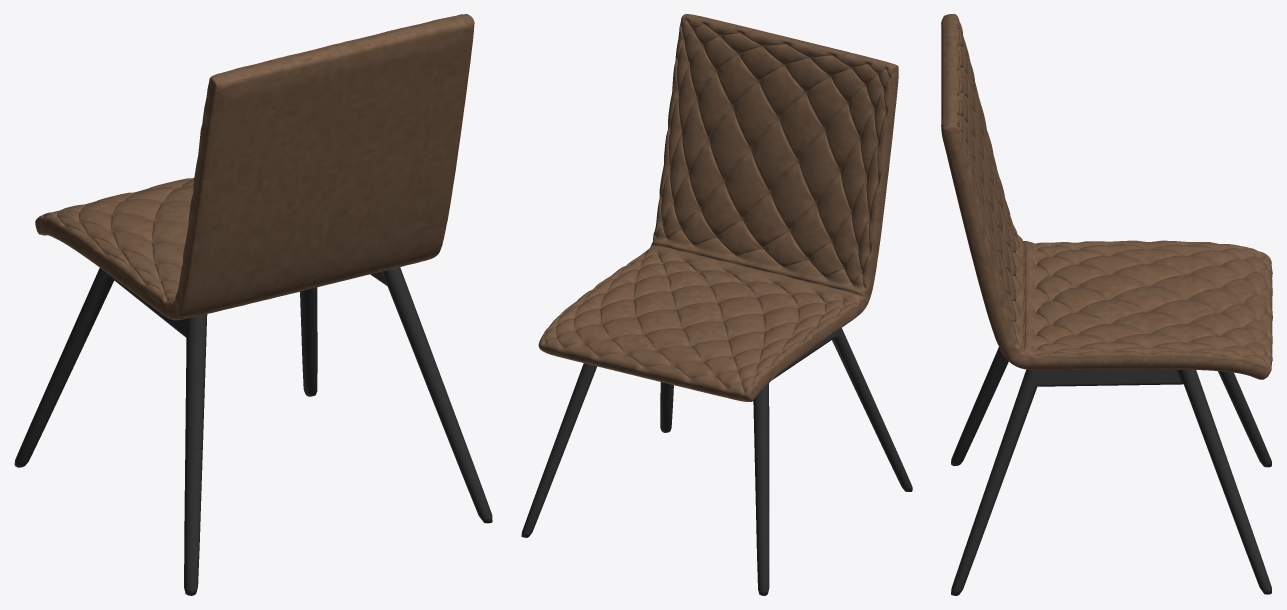
File: Chair10.glb
The picture shows the model from 3 angles, left to right: view 1: azimuth 30°, elevation 25°; view 2: azimuth 150°, elevation 25°; view 3: azimuth 270°, elevation 25°; orthographic projection. The views are drawn at different scales.
Parts seen in each view (by area): view 1: Chair10_model; view 2: Chair10_model; view 3: Chair10_model.
Boxes of the visible parts, x1,y1,x2,y2 form: Chair10_model: [14, 14, 492, 595]; Chair10_model: [521, 14, 912, 595]; Chair10_model: [941, 14, 1272, 595].
Bounding box in the file's own units: 1.25 × 2.01 × 1.31.
1 material, 1 textured.
